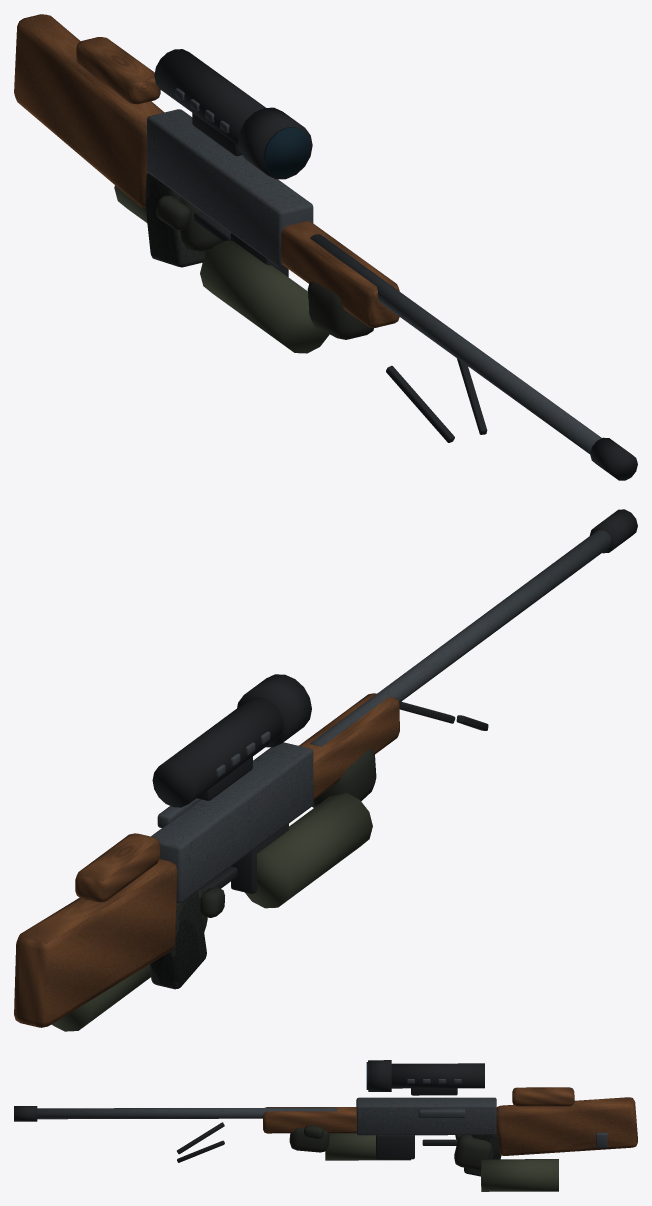
The model's file is weapon_mosin.glb.
3 renders of one model, top to bottom at view 1: azimuth 30°, elevation 25°; view 2: azimuth 150°, elevation 25°; view 3: azimuth 270°, elevation 25°, orthographic. The views are drawn at different scales.
Parts seen in each view (by area): view 1: WeaponMesh; view 2: WeaponMesh; view 3: WeaponMesh.
Boxes of the visible parts, x1,y1,x2,y2 form: WeaponMesh: [14, 14, 637, 480]; WeaponMesh: [14, 509, 637, 1031]; WeaponMesh: [14, 1060, 637, 1191].
Size of the model in its own units: 0.1707 by 0.3384 by 1.6.
Materials: 7 (3 with a texture image).
